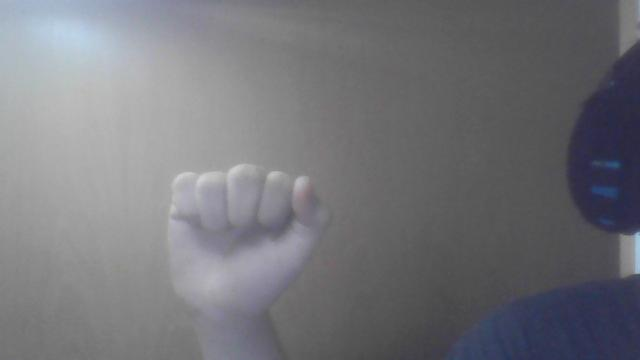forward: (166, 162, 332, 358)
